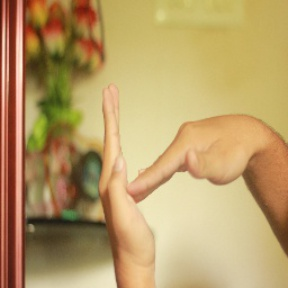Z: (88, 76, 256, 267)
